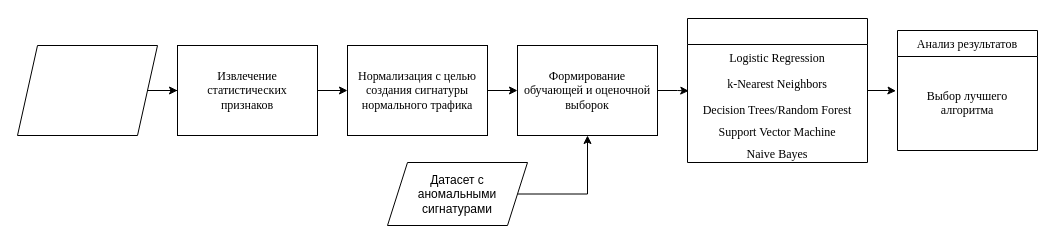
The diagram is 1055 pixels wide and 243 high, and some of its shapes have lost their labels. The shapes that lost their labels are listed below. From the top down, each one's box as (x1, y1, x2, y2) in pixels, then its label:
(16, 44, 158, 136): Дамп нормального сетевого трафика
(686, 18, 868, 162): Алгоритм бинарной классификации
